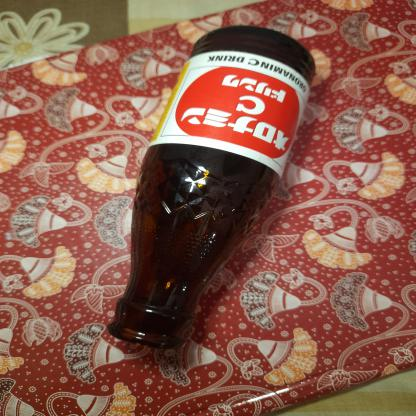bottle: (101, 23, 320, 351)
